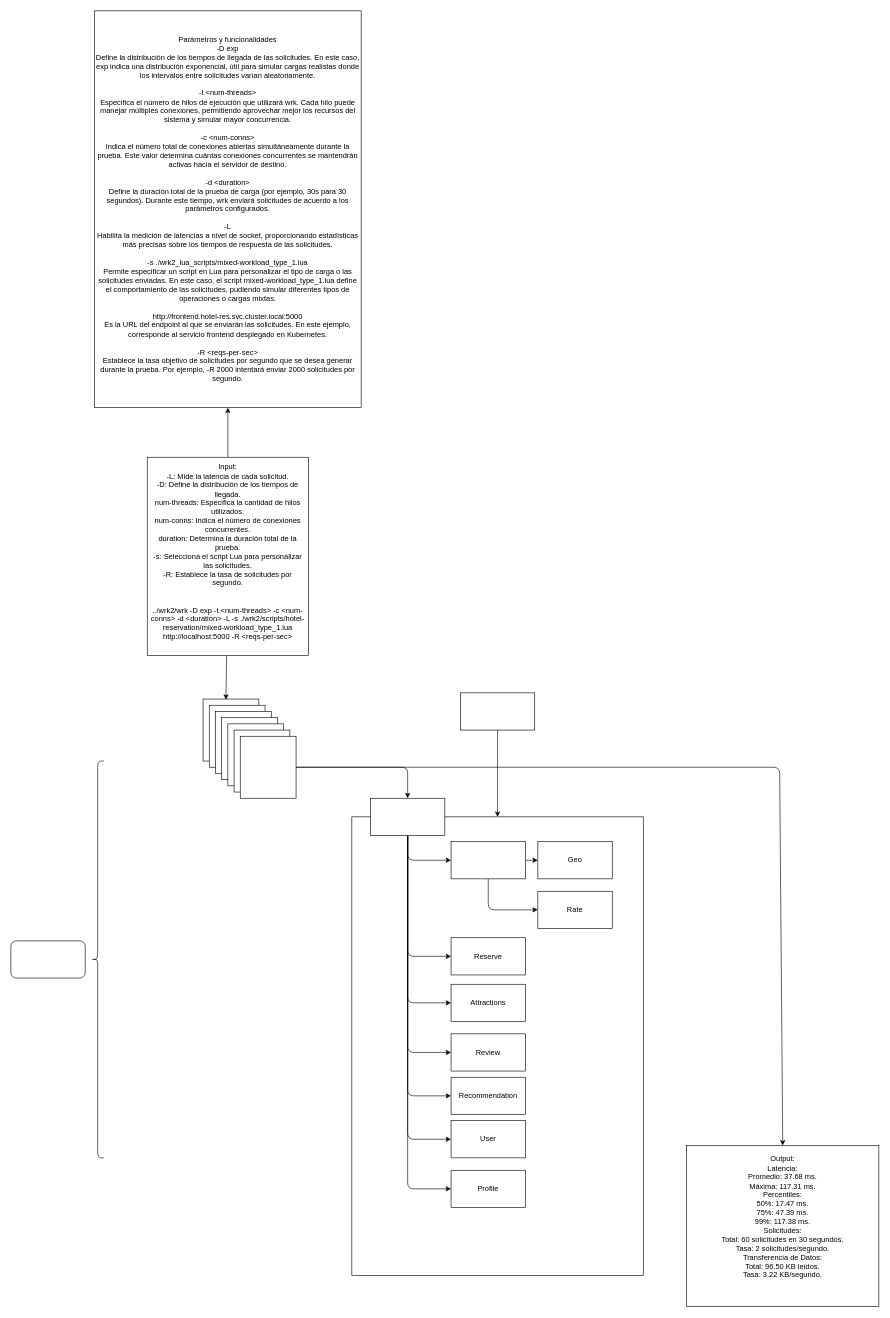
This 890x1318 diagram has some shape labels left out. The centre of each missing label's shape, as x and y in pixels:
Frontend: point (407, 816)
Hotel Reservation Architecture: point (497, 711)
Medicion de consumo de Energia CPU-NIC-SD-RAM: point (47, 959)
Search: point (487, 860)
